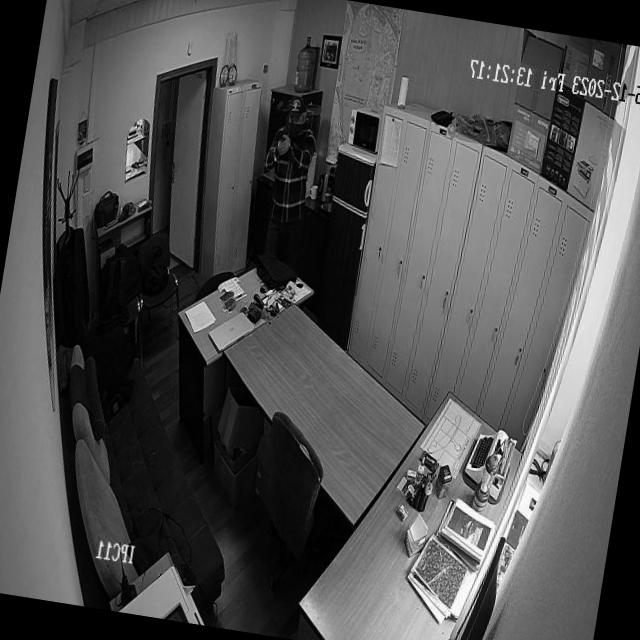gun: (272, 125, 292, 148)
person with a gun: (252, 90, 323, 256)
